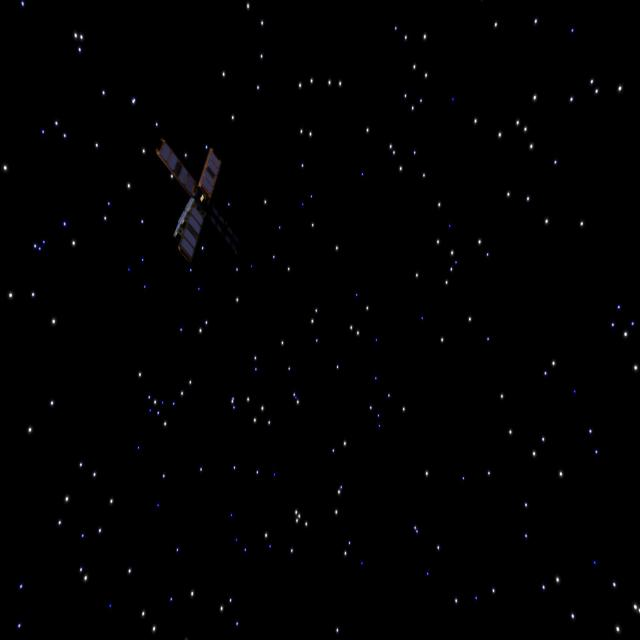medium_debris: (156, 124, 252, 270)
